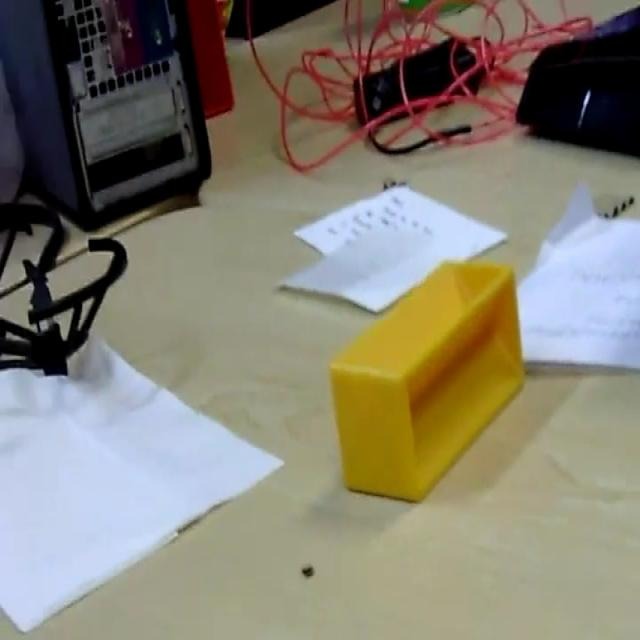yellow_block: (327, 257, 525, 503)
